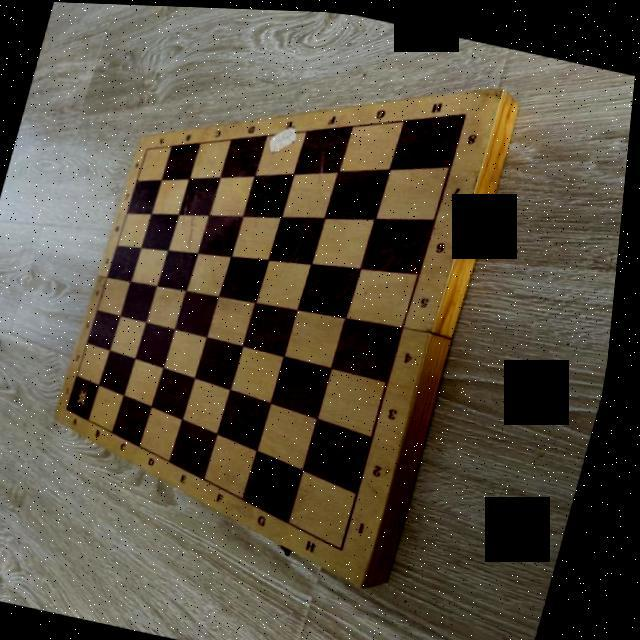chess-table-corners: (456, 102, 473, 116), (341, 540, 358, 550), (143, 144, 153, 152), (67, 404, 78, 411)
